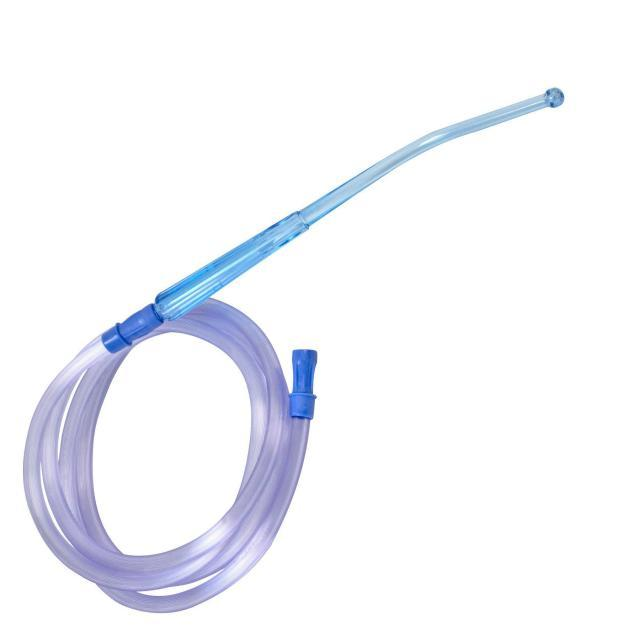Yankauer: (152, 86, 566, 322)
